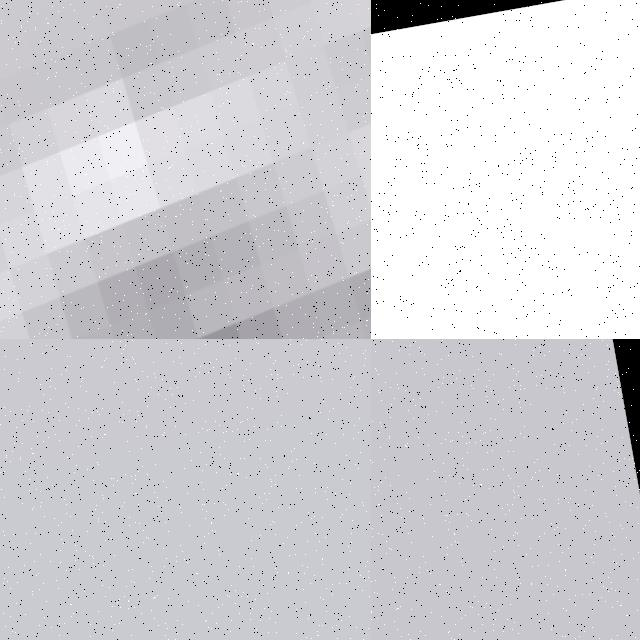drone: (0, 0, 371, 339), (371, 0, 640, 339)
